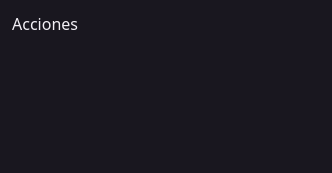
Test: Menu › abre con clic y lista sus acciones
The width and height of the screenshot is (332, 173).
Click the button "Acciones" at (45, 24), box [12,12,78,36]
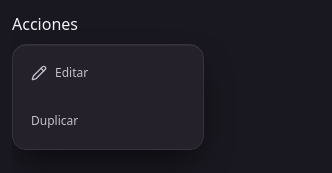
expect the menu item "Editar" is shown: met, box [31,64,88,81]
expect the menu item "Duplicar" is shown: met, box [31,112,78,129]
